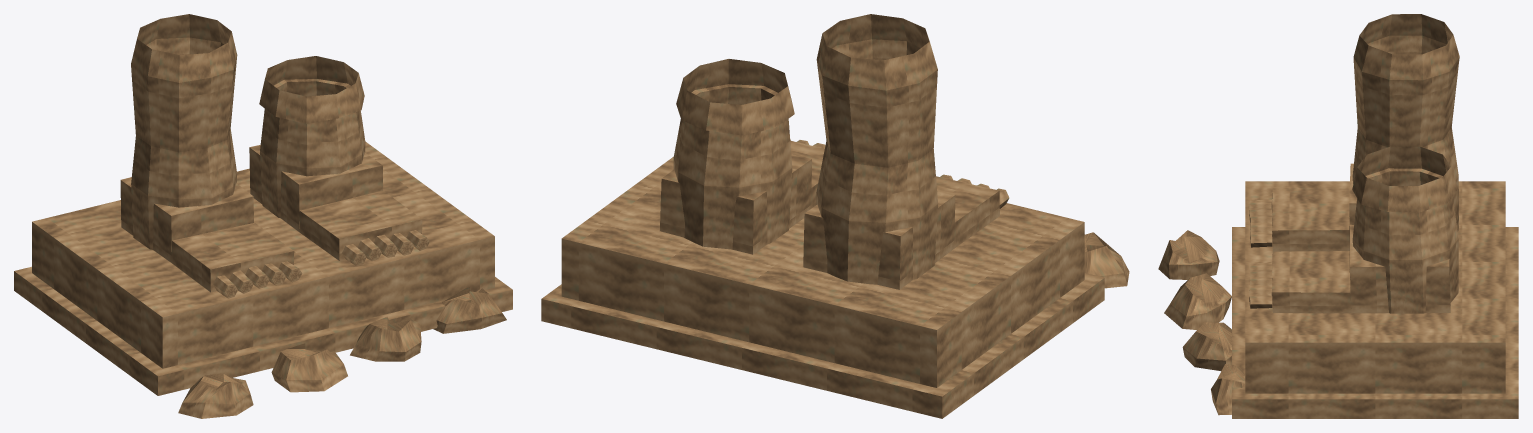
Rendered from Colossus_Feet_1.gltf.
3 views of the same model, side by side, from view 1: azimuth 30°, elevation 25°; view 2: azimuth 150°, elevation 25°; view 3: azimuth 270°, elevation 25° (orthographic). The views are drawn at different scales.
Visible parts, largest first — view 1: Colossus_Feet_1; view 2: Colossus_Feet_1; view 3: Colossus_Feet_1.
Boxes of the visible parts, <box> form: Colossus_Feet_1: <box>14,14,512,418</box>; Colossus_Feet_1: <box>541,14,1129,418</box>; Colossus_Feet_1: <box>1158,14,1518,418</box>.
Bounding box in the file's own units: 4.7 × 3.44 × 4.15.
1 material, 1 textured.
